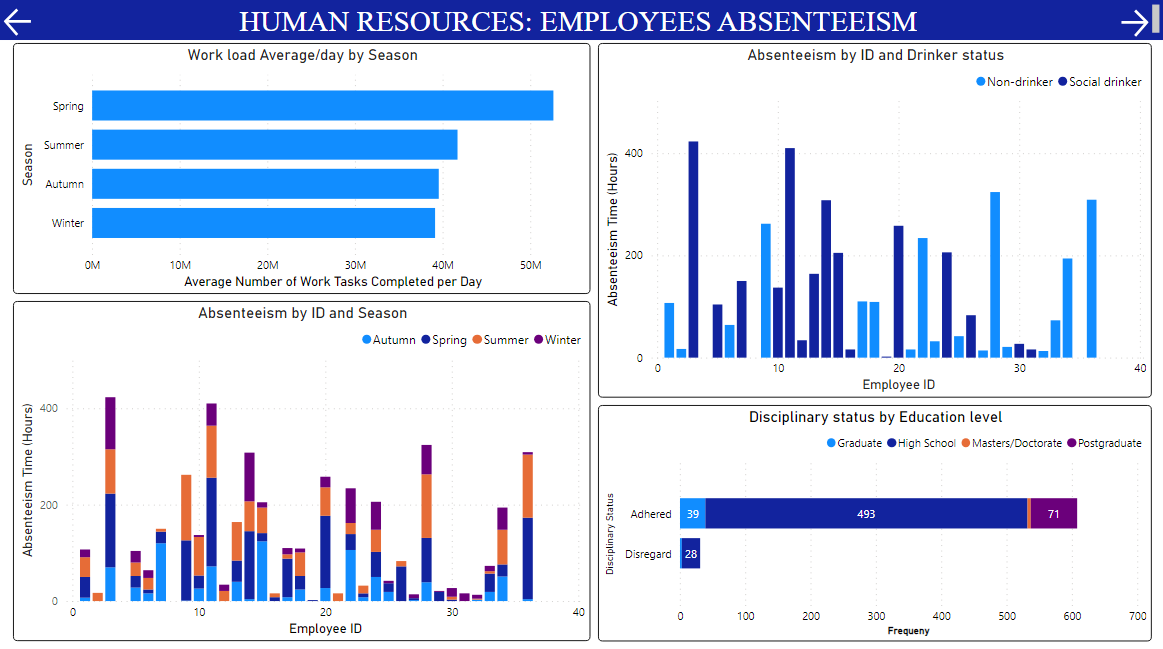

This screenshot's page, from the dashboard's own definition file:
{"tool":"powerbi","page":{"name":"Page 4","canvas":[1280,720],"ordinal":3},"visuals":[{"type":"barChart","fields":{"Category":["Absenteeisms.Season"],"Y":["Sum(Absenteeisms.Work load Average/day)"]},"box":[13.9,53.4,635.4,276.4],"z":0},{"type":"columnChart","title":"Absenteeism by ID and Drinker status","fields":{"Category":["Absenteeisms.ID"],"Y":["Sum(Absenteeisms.Absenteeism time in hours)"],"Series":["Employee_info.Drinker status"]},"box":[657.4,53.4,608.6,390.3],"z":1000},{"type":"textbox","box":[0,7,1280,44.1],"z":2000},{"type":"barChart","title":"Disciplinary status by Education level","fields":{"Category":["Absenteeisms.Disciplinary status"],"Y":["CountNonNull(Absenteeisms.Disciplinary status)"],"Series":["Employee_info.Education level"]},"box":[657.4,451.8,608.6,260.2],"z":3000},{"type":"columnChart","title":"Absenteeism by ID and Season","fields":{"Category":["Absenteeisms.ID"],"Y":["Sum(Absenteeisms.Absenteeism time in hours)"],"Series":["Absenteeisms.Season"]},"box":[13.9,338,635.4,374],"z":4000},{"type":"actionButton","box":[0,10.6,45.4,40.1],"z":5000},{"type":"actionButton","box":[1226.7,11.6,49.6,40.1],"z":6000}]}

Visuals, with their boxes in screenshot pixels (x1, y1, x2, y2), scaled from the page's 1280x720 canvas onto the 1163x649 screenshot:
barChart - Absenteeisms.Season x Sum(Absenteeisms.Work load Average/day): crop(13, 48, 590, 297)
"Absenteeism by ID and Drinker status" columnChart: crop(597, 48, 1150, 400)
textbox: crop(0, 6, 1162, 46)
"Disciplinary status by Education level" barChart: crop(597, 407, 1150, 642)
"Absenteeism by ID and Season" columnChart: crop(13, 305, 590, 642)
actionButton: crop(0, 10, 41, 46)
actionButton: crop(1115, 10, 1160, 47)
